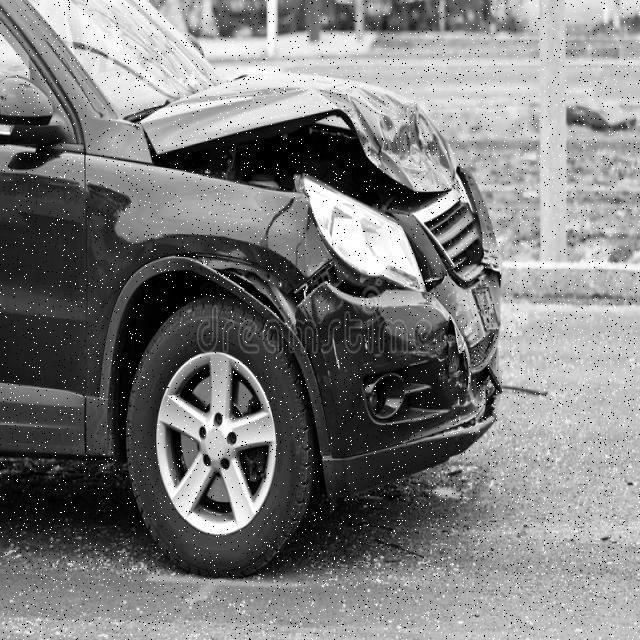Headlight-damage: (292, 168, 433, 293)
bonnet-dent: (140, 53, 466, 208)
fender-dent: (87, 149, 284, 350)
front-bumper-dent: (289, 268, 516, 468)
